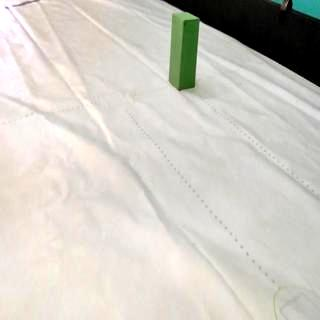greenbox: (167, 10, 200, 91)
